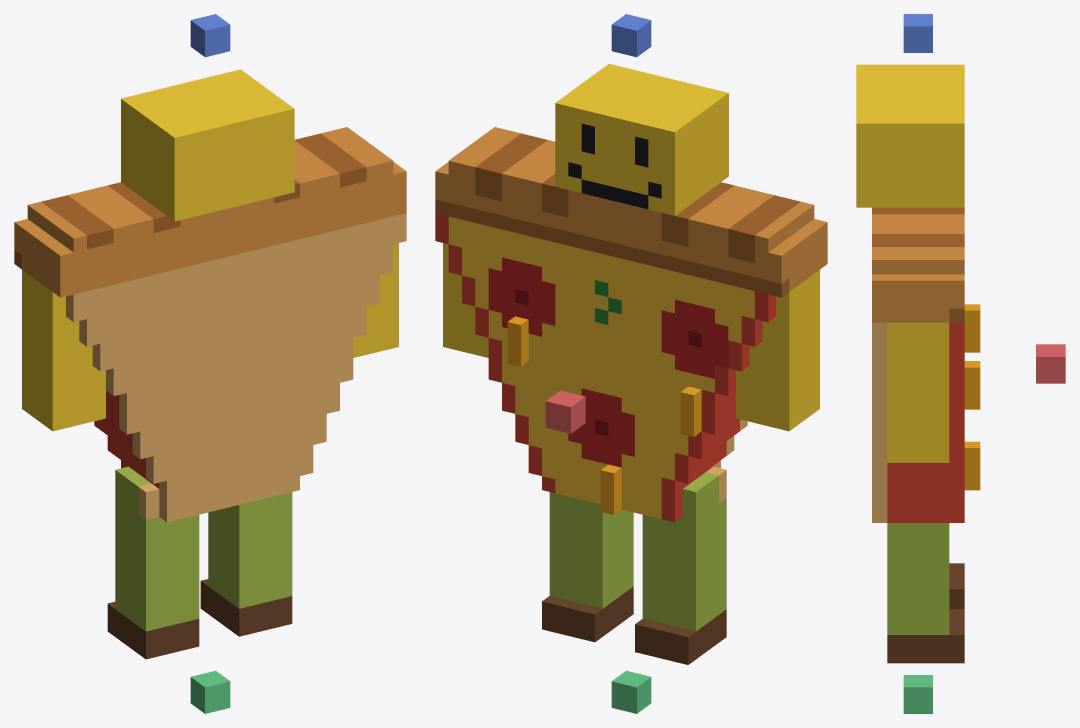
The model's file is NoobiniPizzanini.glb.
3 renders of one model, left to right at view 1: azimuth 30°, elevation 25°; view 2: azimuth 150°, elevation 25°; view 3: azimuth 270°, elevation 25°, orthographic.
Visible parts, largest first — view 1: NoobiniPizzanini_Body, NoobiniPizzanini_Head5, NoobiniPizzanini_Leg2, NoobiniPizzanini_Leg1, NoobiniPizzanini_Arm4, NoobiniPizzanini_Arm3, NoobiniPizzanini_Top, NoobiniPizzanini_Built; view 2: NoobiniPizzanini_Body, NoobiniPizzanini_Head5, NoobiniPizzanini_Leg2, NoobiniPizzanini_Leg1, NoobiniPizzanini_Arm4, NoobiniPizzanini_Arm3, NoobiniPizzanini_Front, NoobiniPizzanini_Top, NoobiniPizzanini_Built; view 3: NoobiniPizzanini_Body, NoobiniPizzanini_Head5, NoobiniPizzanini_Leg1, NoobiniPizzanini_Arm3, NoobiniPizzanini_Front, NoobiniPizzanini_Top, NoobiniPizzanini_Built, NoobiniPizzanini_Leg2.
Part boxes in pixels (bbox=[...]): NoobiniPizzanini_Body: bbox=[14, 127, 406, 522]; NoobiniPizzanini_Head5: bbox=[121, 69, 294, 221]; NoobiniPizzanini_Leg2: bbox=[107, 466, 199, 659]; NoobiniPizzanini_Leg1: bbox=[200, 492, 292, 636]; NoobiniPizzanini_Arm4: bbox=[22, 270, 105, 431]; NoobiniPizzanini_Arm3: bbox=[353, 243, 398, 357]; NoobiniPizzanini_Top: bbox=[190, 14, 230, 57]; NoobiniPizzanini_Built: bbox=[190, 670, 230, 713]; NoobiniPizzanini_Body: bbox=[435, 127, 827, 522]; NoobiniPizzanini_Head5: bbox=[555, 64, 728, 215]; NoobiniPizzanini_Leg2: bbox=[635, 466, 726, 664]; NoobiniPizzanini_Leg1: bbox=[542, 492, 633, 642]; NoobiniPizzanini_Arm4: bbox=[736, 270, 819, 431]; NoobiniPizzanini_Arm3: bbox=[443, 243, 488, 357]; NoobiniPizzanini_Front: bbox=[545, 390, 585, 433]; NoobiniPizzanini_Top: bbox=[611, 14, 651, 57]; NoobiniPizzanini_Built: bbox=[611, 670, 651, 713]; NoobiniPizzanini_Body: bbox=[872, 207, 980, 522]; NoobiniPizzanini_Head5: bbox=[856, 64, 964, 207]; NoobiniPizzanini_Leg1: bbox=[887, 523, 964, 663]; NoobiniPizzanini_Arm3: bbox=[887, 322, 949, 462]; NoobiniPizzanini_Front: bbox=[1036, 344, 1065, 383]; NoobiniPizzanini_Top: bbox=[903, 14, 932, 52]; NoobiniPizzanini_Built: bbox=[903, 675, 932, 713]; NoobiniPizzanini_Leg2: bbox=[949, 563, 964, 608].
Bounding box in the file's own units: 3.42 × 6.45 × 1.78.
1 material, 1 textured.
